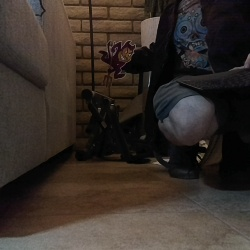sparky: (97, 39, 136, 89)
